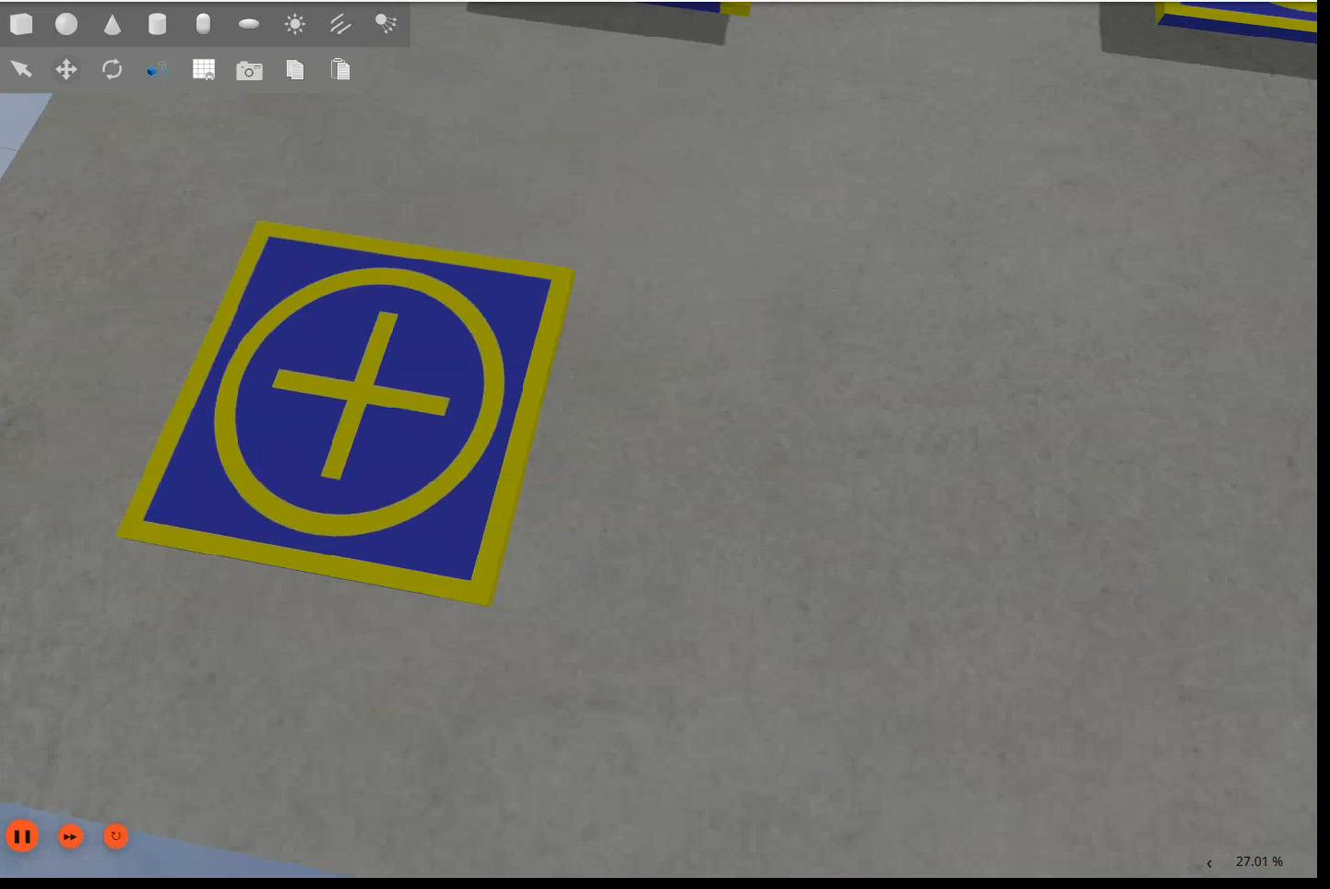small_base: (118, 217, 583, 612)
